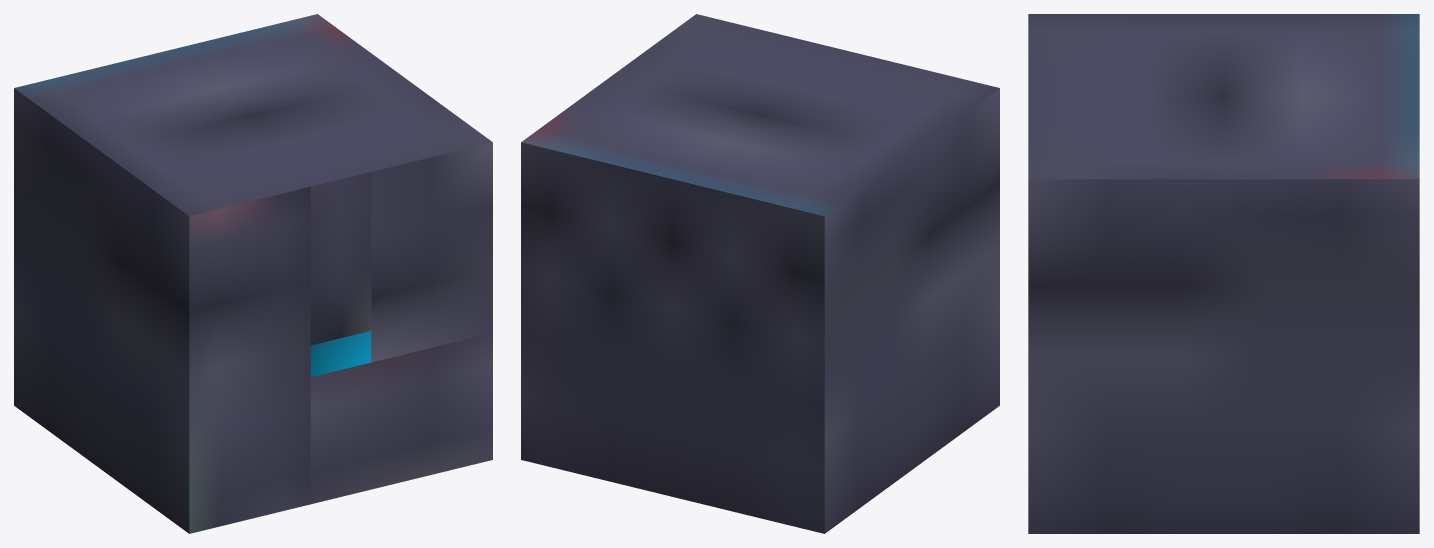
Rendered from Crate_B_00.fbx.
The picture shows the model from 3 angles, left to right: view 1: azimuth 30°, elevation 25°; view 2: azimuth 150°, elevation 25°; view 3: azimuth 270°, elevation 25°; orthographic projection. The views are drawn at different scales.
Visible parts, largest first — view 1: Crate_B_00; view 2: Crate_B_00; view 3: Crate_B_00.
Boxes of the visible parts, box(x1,y1,x2,y2) form: Crate_B_00: box(14, 14, 492, 533); Crate_B_00: box(521, 14, 999, 533); Crate_B_00: box(1028, 14, 1419, 533).
Size of the model in its own units: 50 by 50 by 50.
